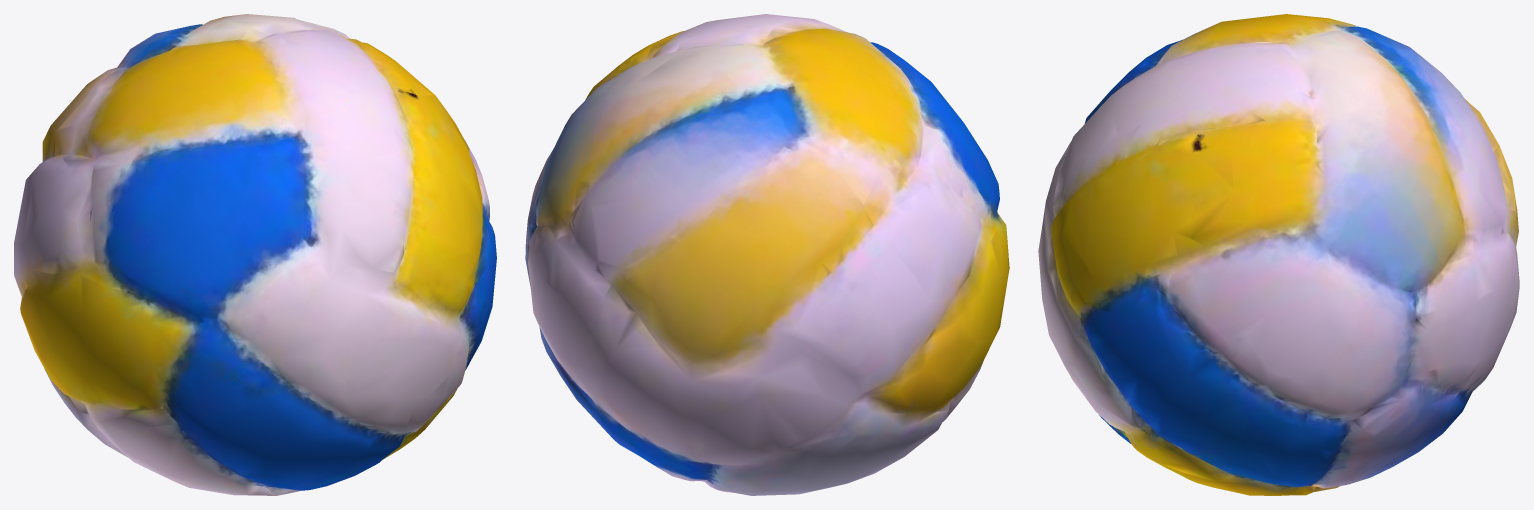
Rendered from ayew_pelota.glb.
3 renders of one model, left to right at view 1: azimuth 30°, elevation 25°; view 2: azimuth 150°, elevation 25°; view 3: azimuth 270°, elevation 25°, orthographic.
Parts seen in each view (by area): view 1: geometry_0; view 2: geometry_0; view 3: geometry_0.
Part boxes in pixels (x1,y1,x2,y2): geometry_0: [14, 14, 496, 495]; geometry_0: [525, 14, 1009, 495]; geometry_0: [1038, 14, 1519, 495].
Size of the model in its own units: 1.01 by 1 by 1.
Materials: 1 (1 with a texture image).
